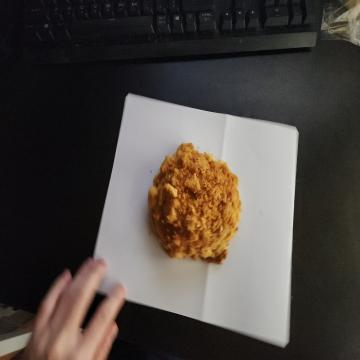soboru_bread: (147, 142, 241, 266)
